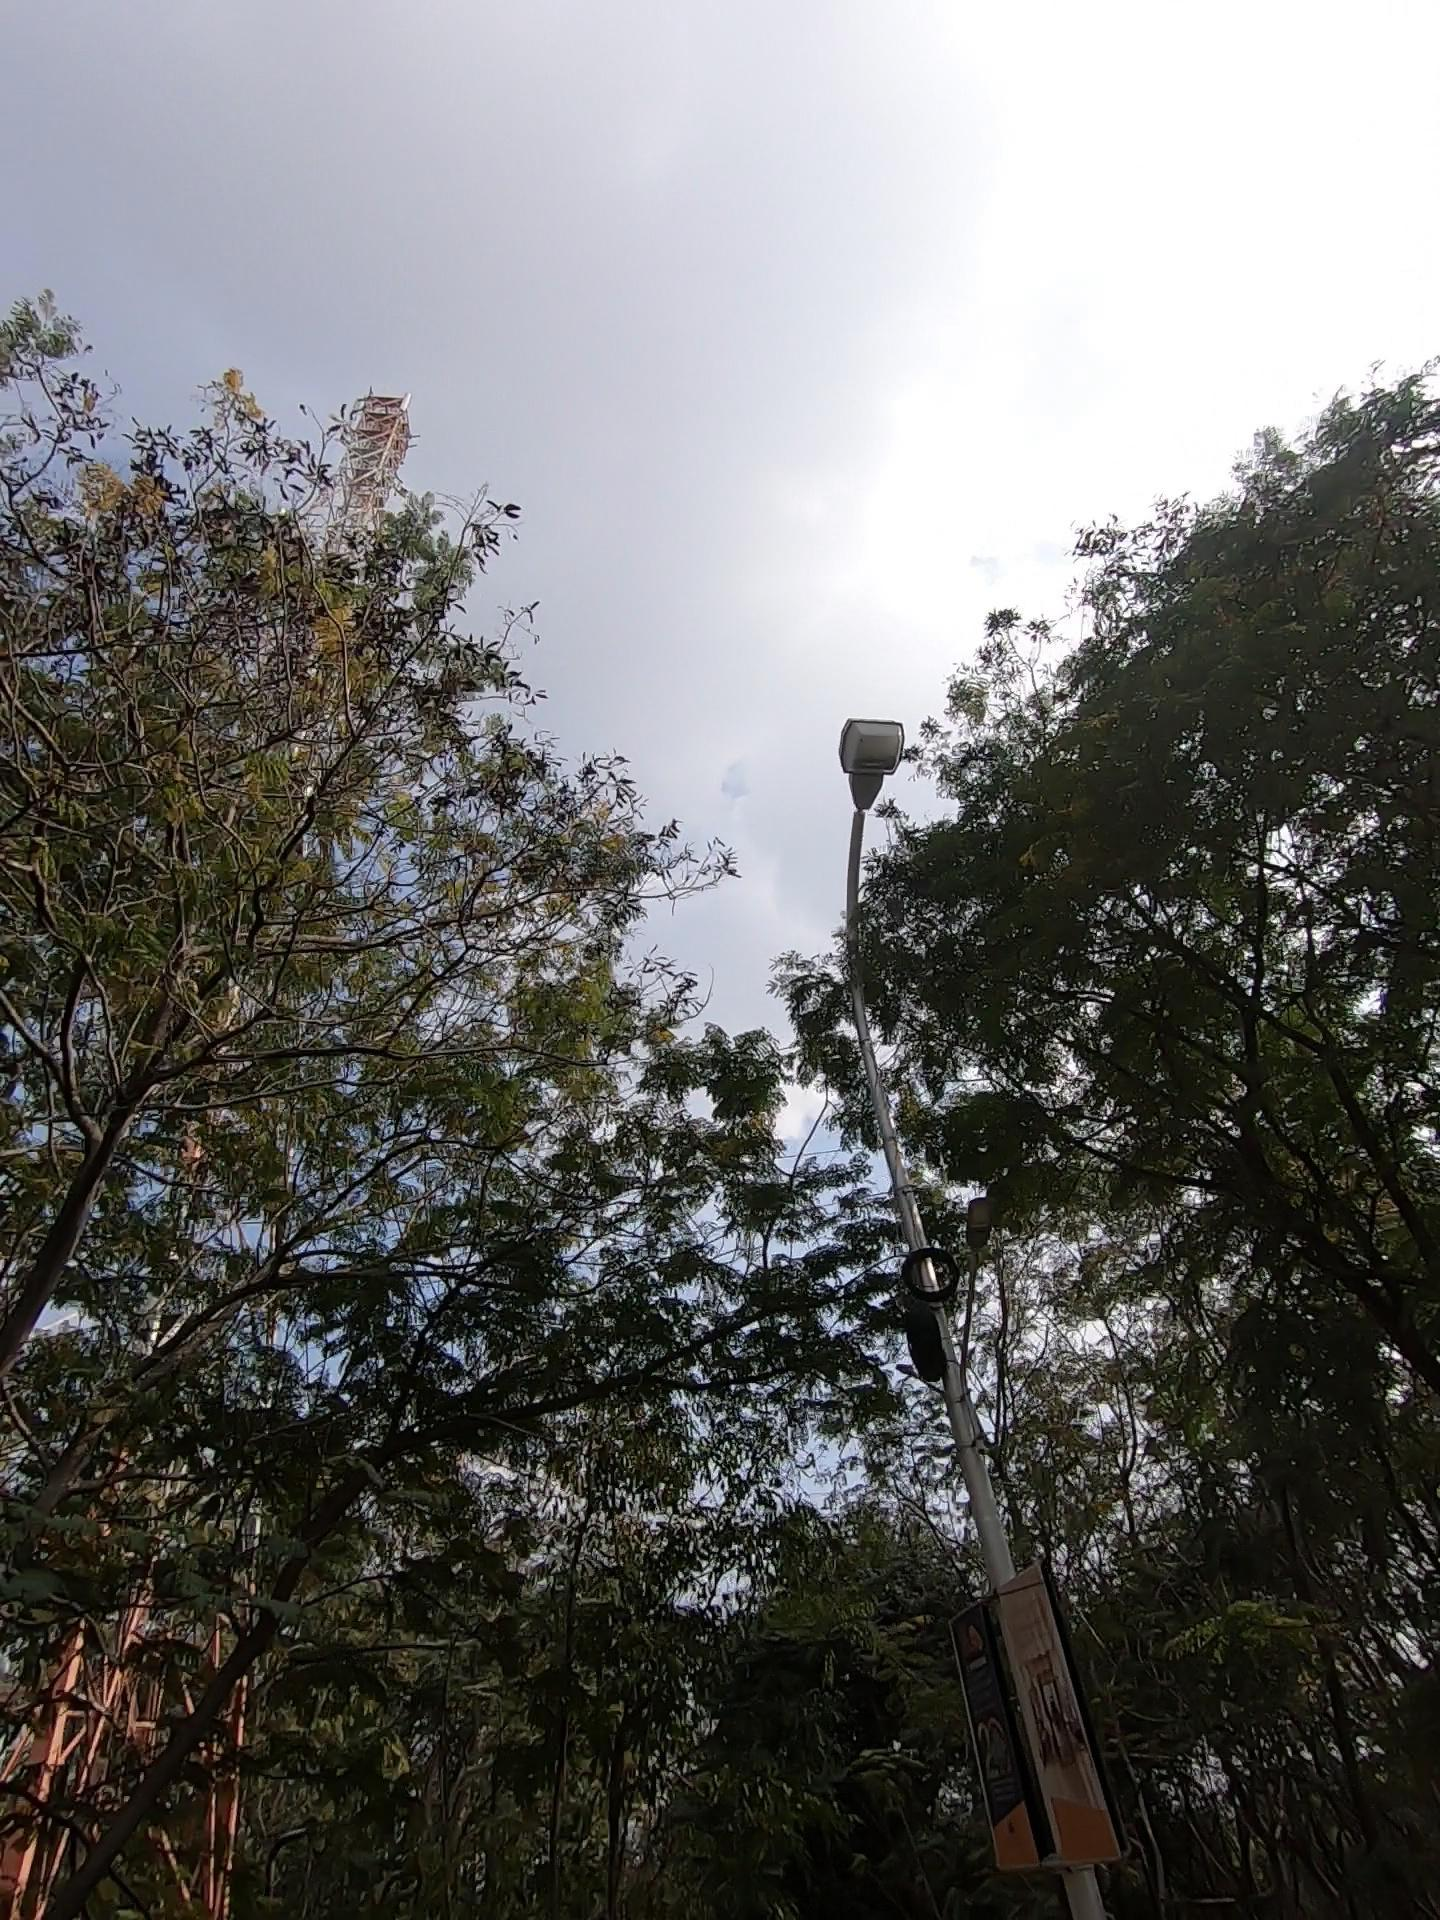off: (709, 626, 1071, 1135)
